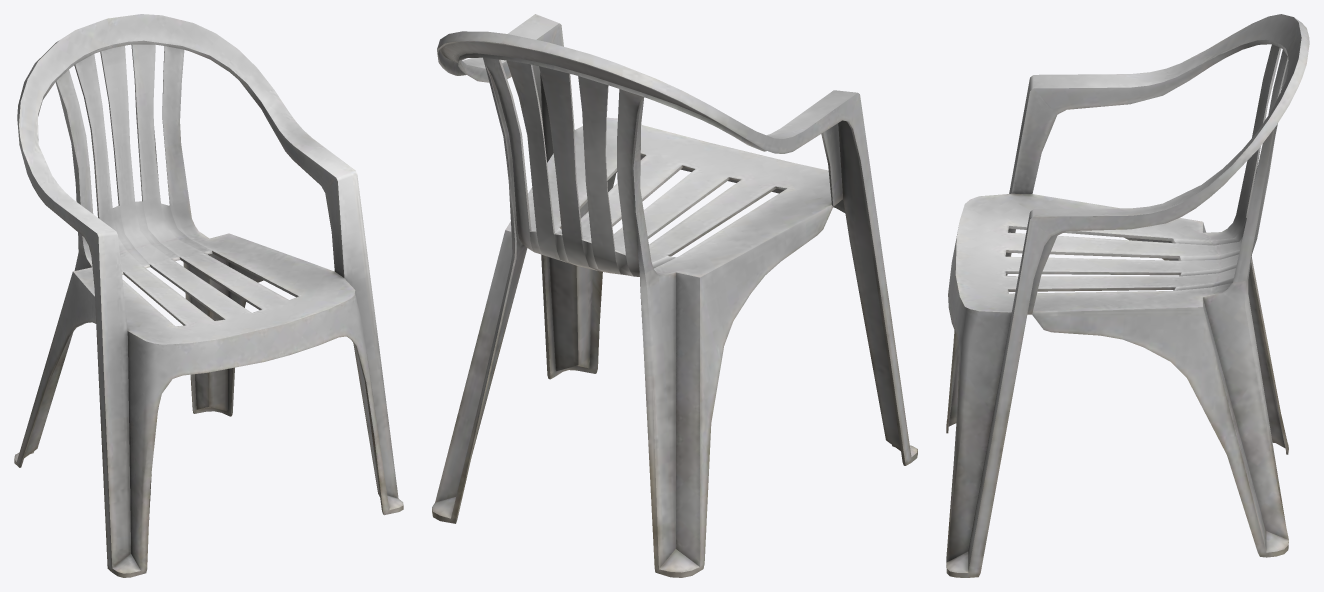
Rendered from plastic_monobloc_chair_01.glb.
3 renders of one model, left to right at view 1: azimuth 30°, elevation 25°; view 2: azimuth 150°, elevation 25°; view 3: azimuth 270°, elevation 25°, orthographic. The views are drawn at different scales.
Parts seen in each view (by area): view 1: plastic_monobloc_chair_01; view 2: plastic_monobloc_chair_01; view 3: plastic_monobloc_chair_01.
Boxes of the visible parts, left/top/right/bottom form: plastic_monobloc_chair_01: left=14, top=14, right=403, bottom=577; plastic_monobloc_chair_01: left=432, top=14, right=917, bottom=577; plastic_monobloc_chair_01: left=946, top=14, right=1309, bottom=577.
Size of the model in its own units: 0.6419 by 0.8798 by 0.6276.
Materials: 1 (1 with a texture image).
